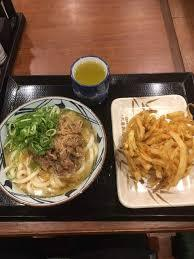kakiage: (118, 109, 192, 188)
niku: (1, 97, 101, 198)
